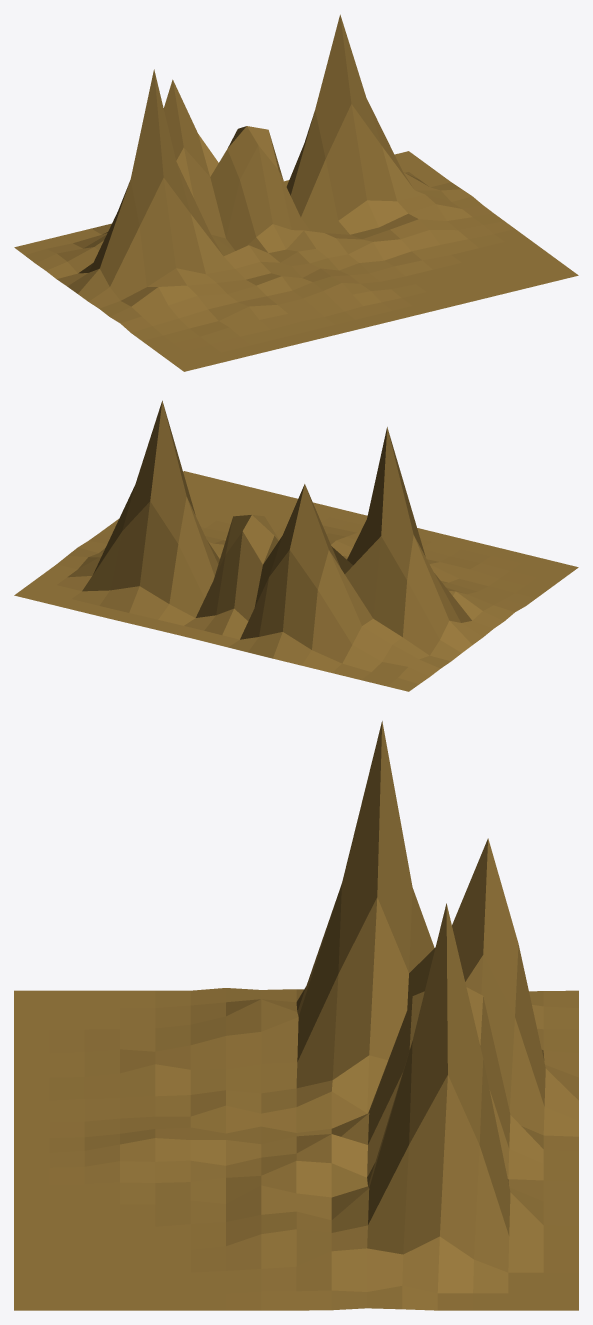
Rendered from hill-brown.glb.
3 renders of one model, top to bottom at view 1: azimuth 30°, elevation 25°; view 2: azimuth 150°, elevation 25°; view 3: azimuth 270°, elevation 25°, orthographic. The views are drawn at different scales.
Parts seen in each view (by area): view 1: Sahne_Plane; view 2: Sahne_Plane; view 3: Sahne_Plane.
Boxes of the visible parts, x1=… form: Sahne_Plane: x1=14, y1=14, x2=578, y2=371; Sahne_Plane: x1=14, y1=400, x2=578, y2=691; Sahne_Plane: x1=14, y1=721, x2=578, y2=1310.
Size of the model in its own units: 11.43 by 5.61 by 8.53.
